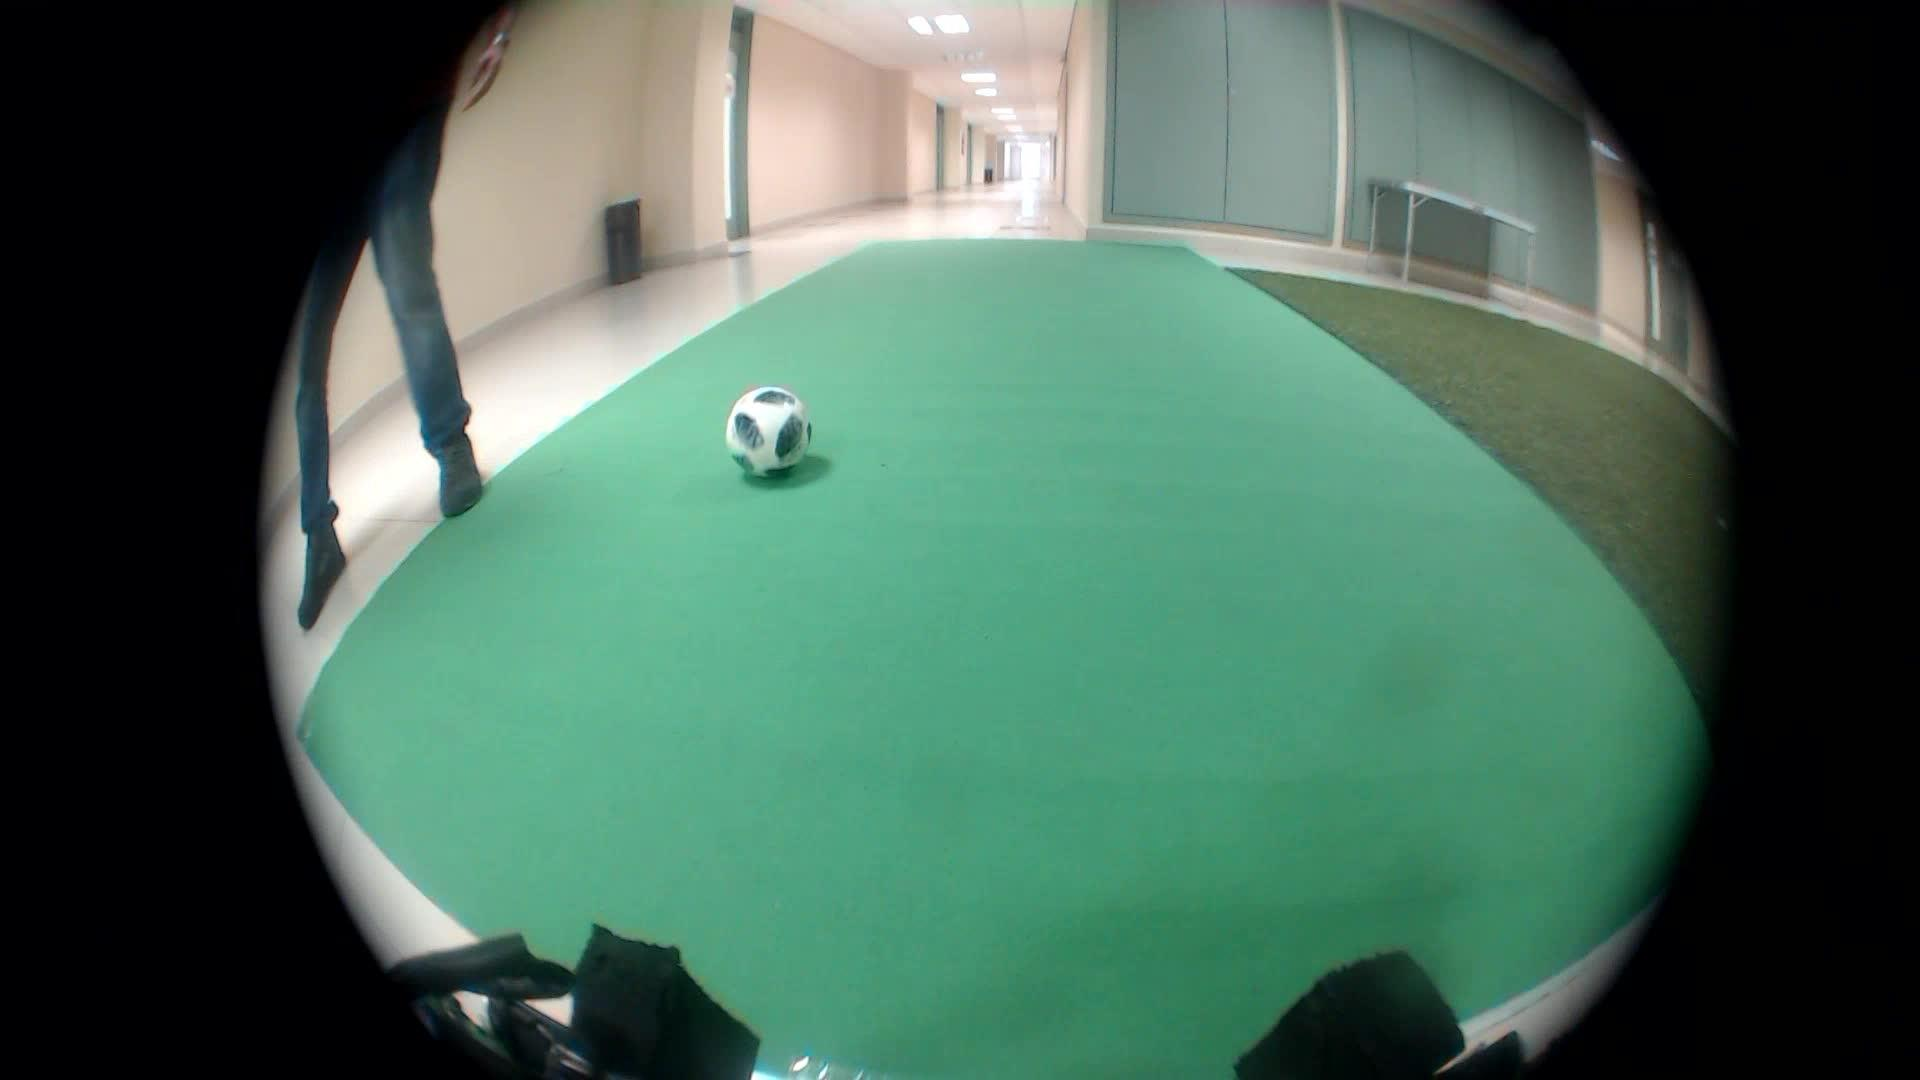ball: (707, 371, 825, 484)
